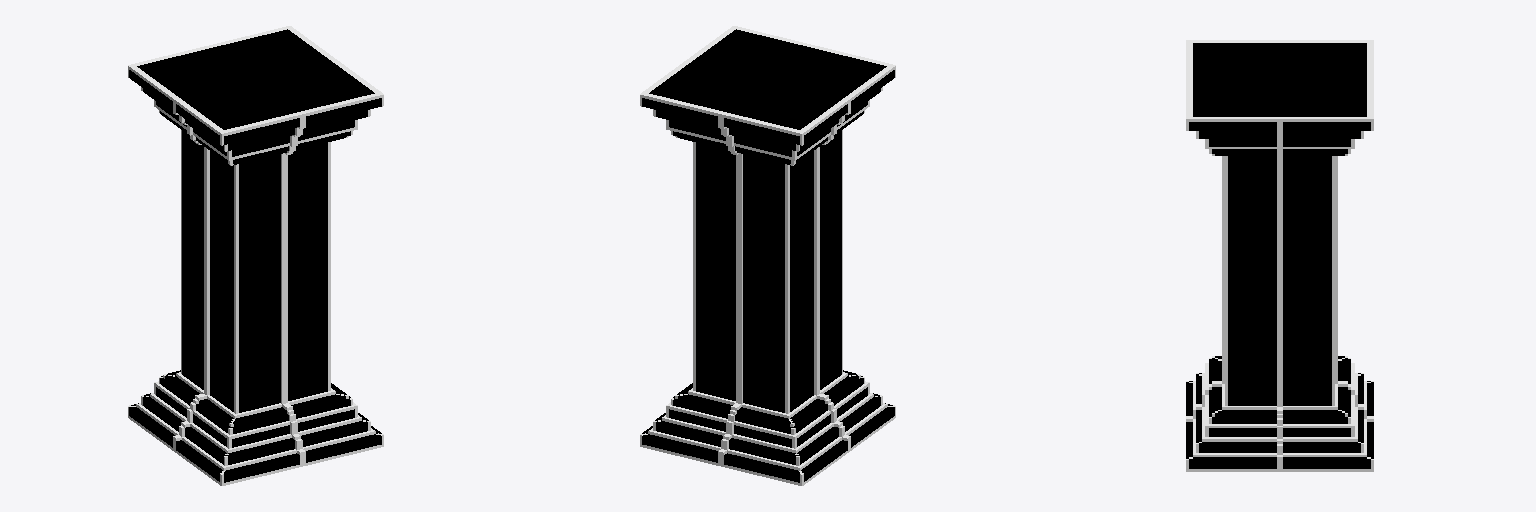
3 renders of one model, left to right at view 1: azimuth 30°, elevation 25°; view 2: azimuth 150°, elevation 25°; view 3: azimuth 270°, elevation 25°, orthographic.
Parts seen in each view (by area): view 1: unnamed_317; view 2: unnamed_317; view 3: unnamed_317.
Part boxes in pixels (x1,y1,x2,y2): unnamed_317: (128,26,383,485); unnamed_317: (640,26,895,485); unnamed_317: (1186,40,1373,471).
Size of the model in its own units: 5.8 by 12 by 5.8.
1 materials, 1 textured.